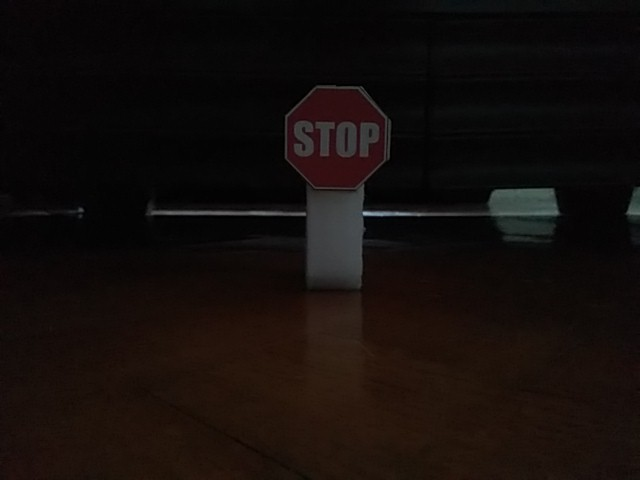Stop Sign: (284, 83, 392, 193)
